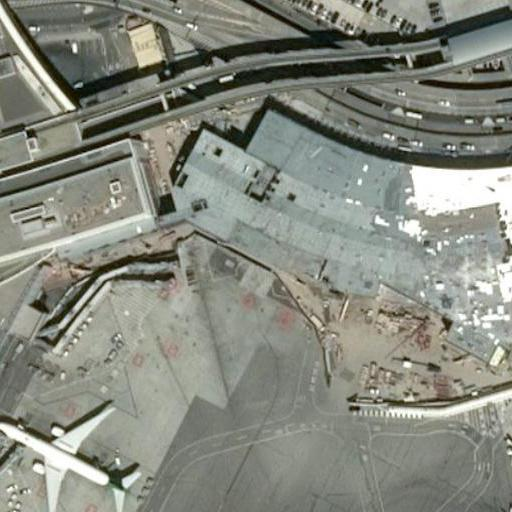Aircraft: (0, 401, 149, 504)
